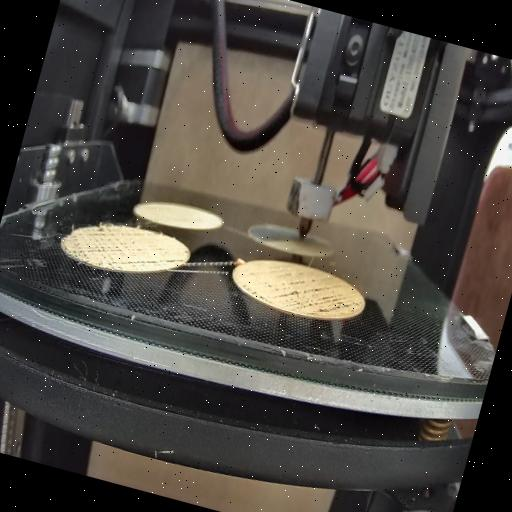under_extrusion: (241, 261, 364, 322), (66, 218, 150, 274), (144, 243, 188, 274)
